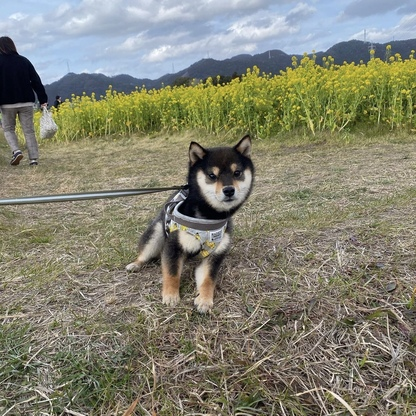shiba: (120, 131, 261, 317)
